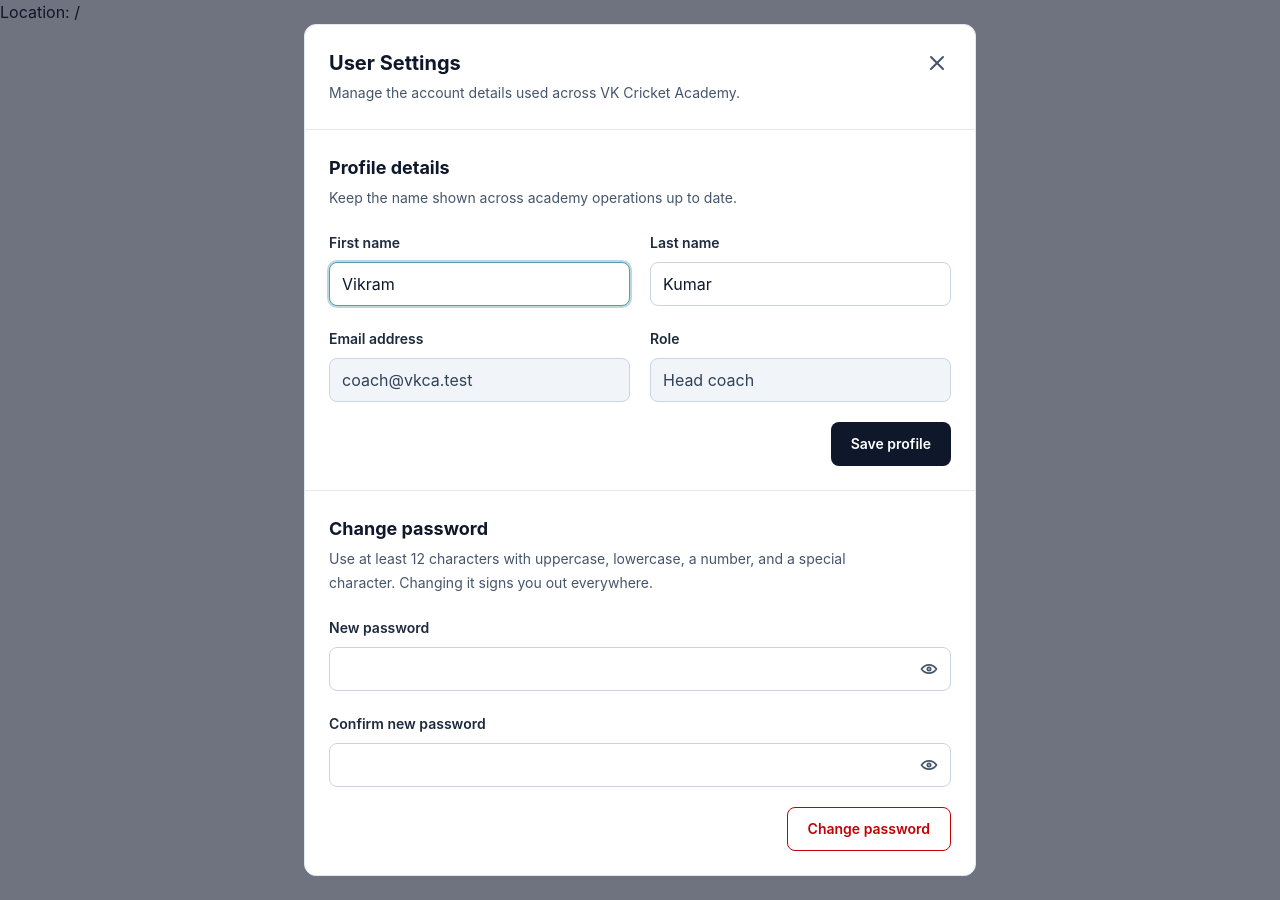
Test case: AccountSettingsModal › updates the profile and shared auth state without reloading
Replace the text in the field labelled "First name" with " Vik " at (480, 284), box top-left (329, 262), bottom-right (630, 306)
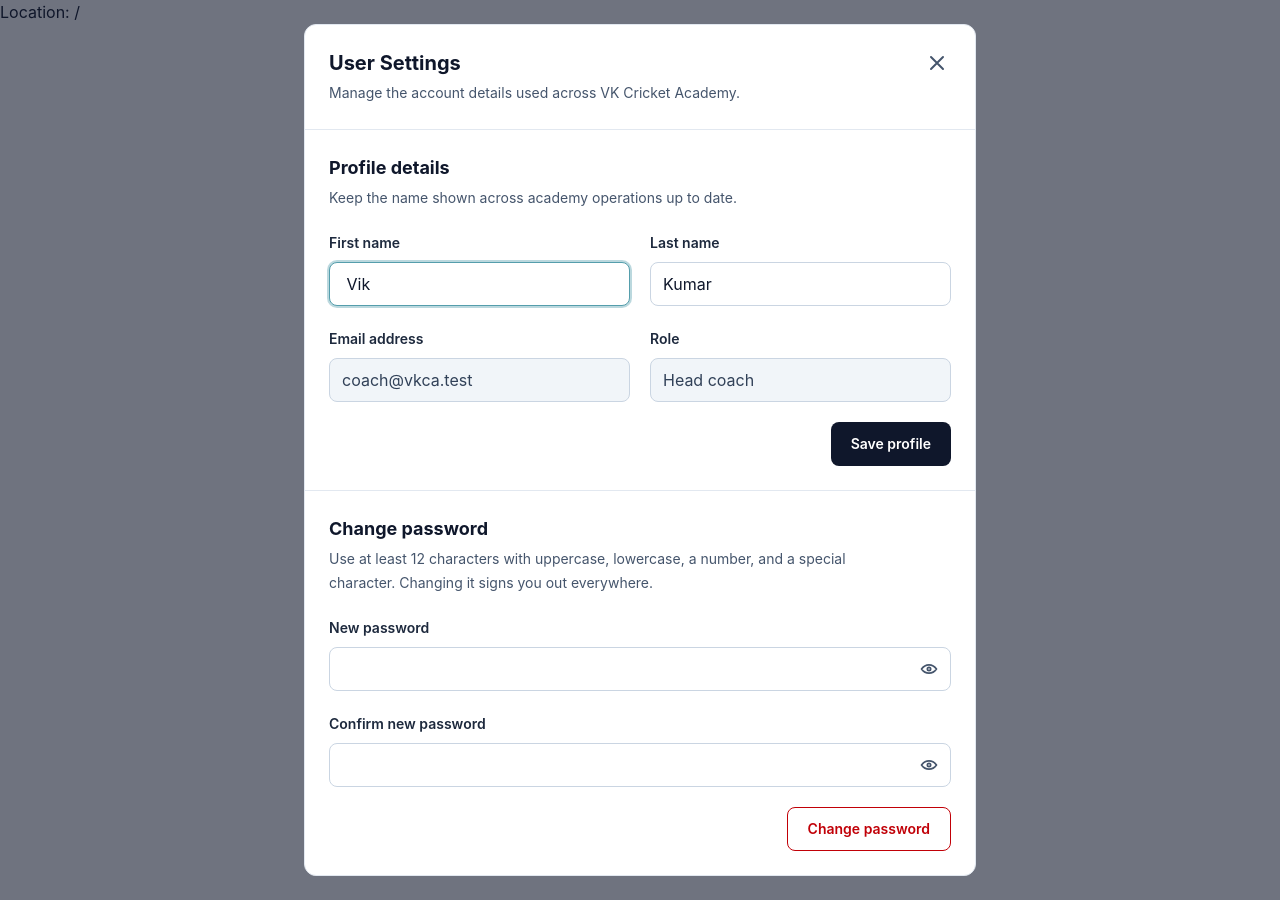
Replace the text in the field labelled "Last name" with "Kumar-Singh" at (800, 284), box top-left (650, 262), bottom-right (951, 306)
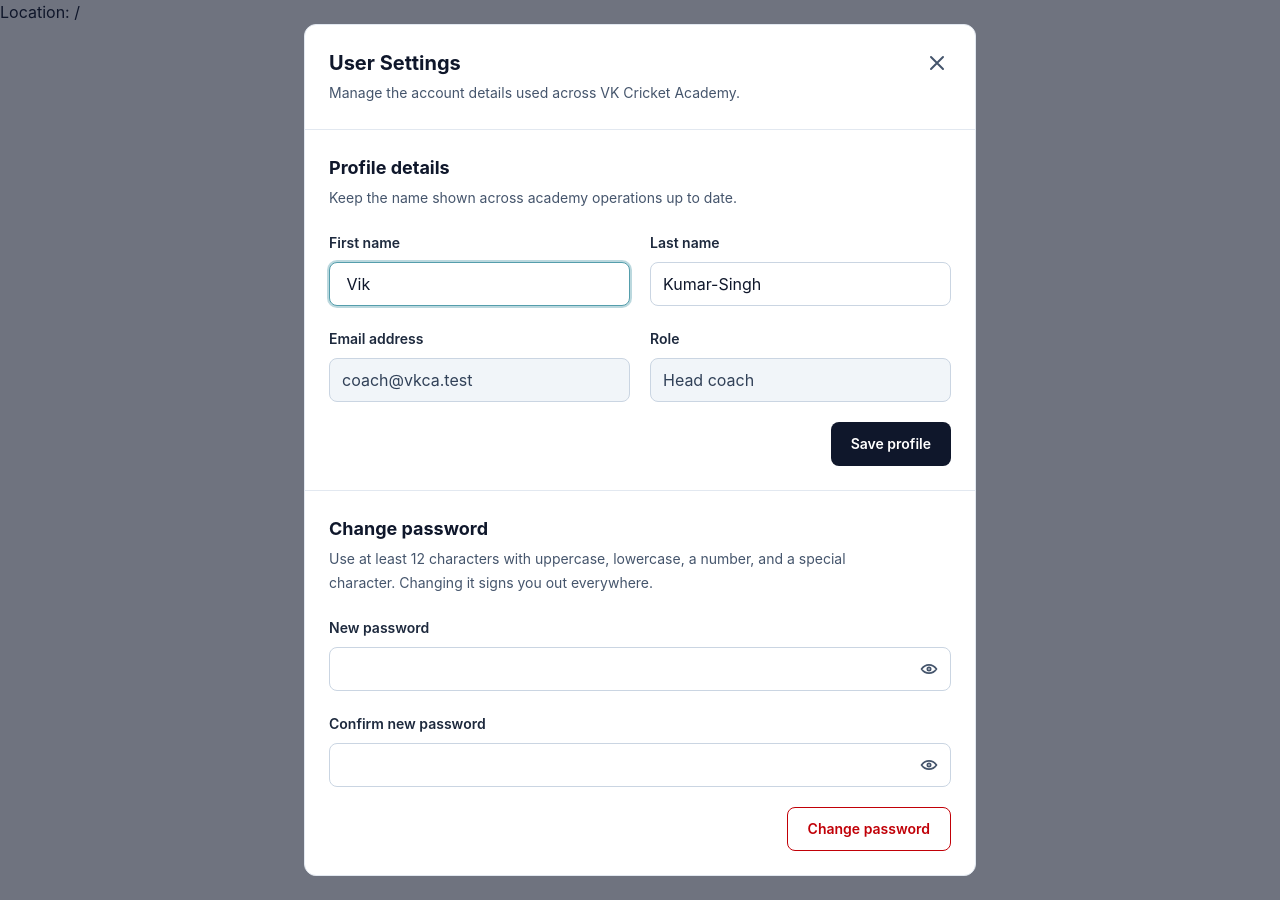
Click the button "Save profile" at (891, 444), box top-left (831, 422), bottom-right (951, 466)
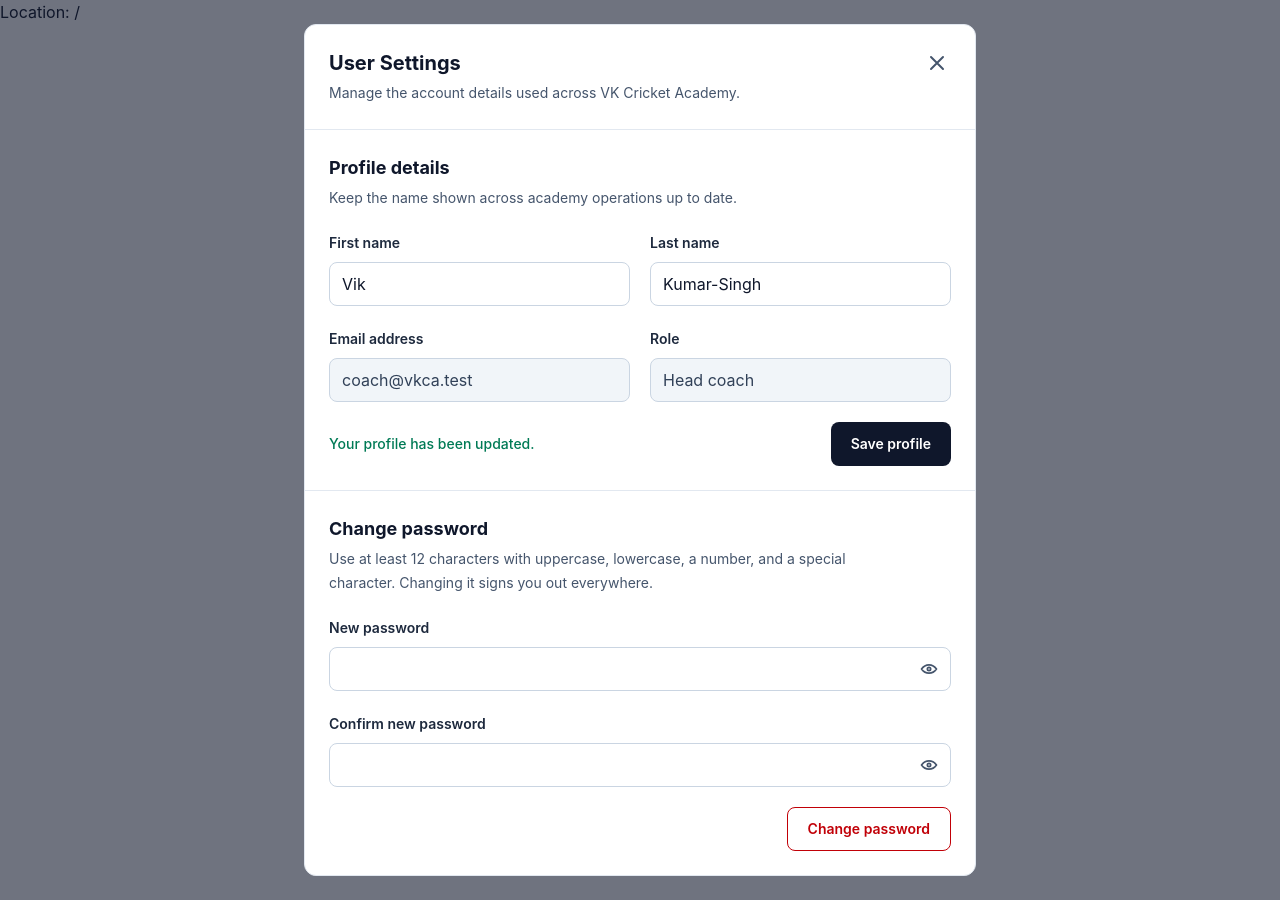
Expected: the message reads "Your profile has been updated.", top-left (329, 435), bottom-right (534, 452)
